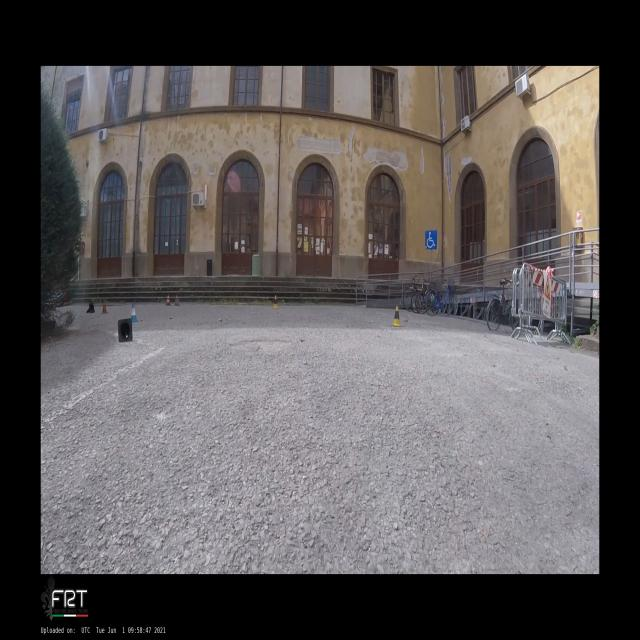blue_cone: (131, 303, 138, 322)
large_orange_cone: (174, 294, 180, 306), (166, 294, 172, 306)
unknown_cone: (118, 318, 132, 343), (100, 298, 109, 314), (86, 303, 95, 313)
yellow_cone: (390, 306, 403, 327), (272, 295, 280, 309)
